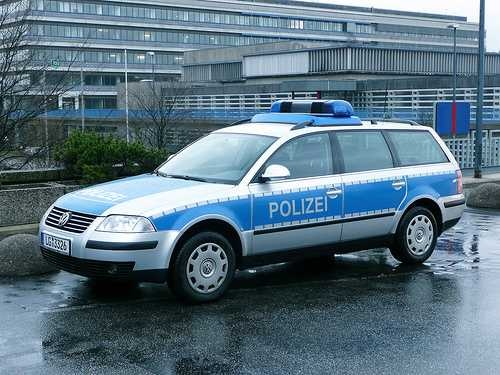Police Car: (71, 78, 472, 304)
